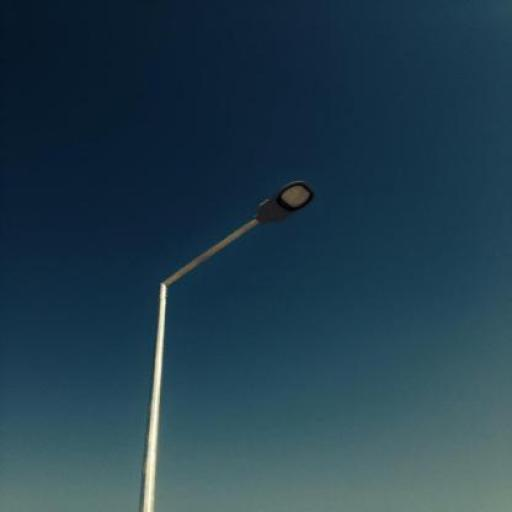street light: (143, 182, 320, 512)
